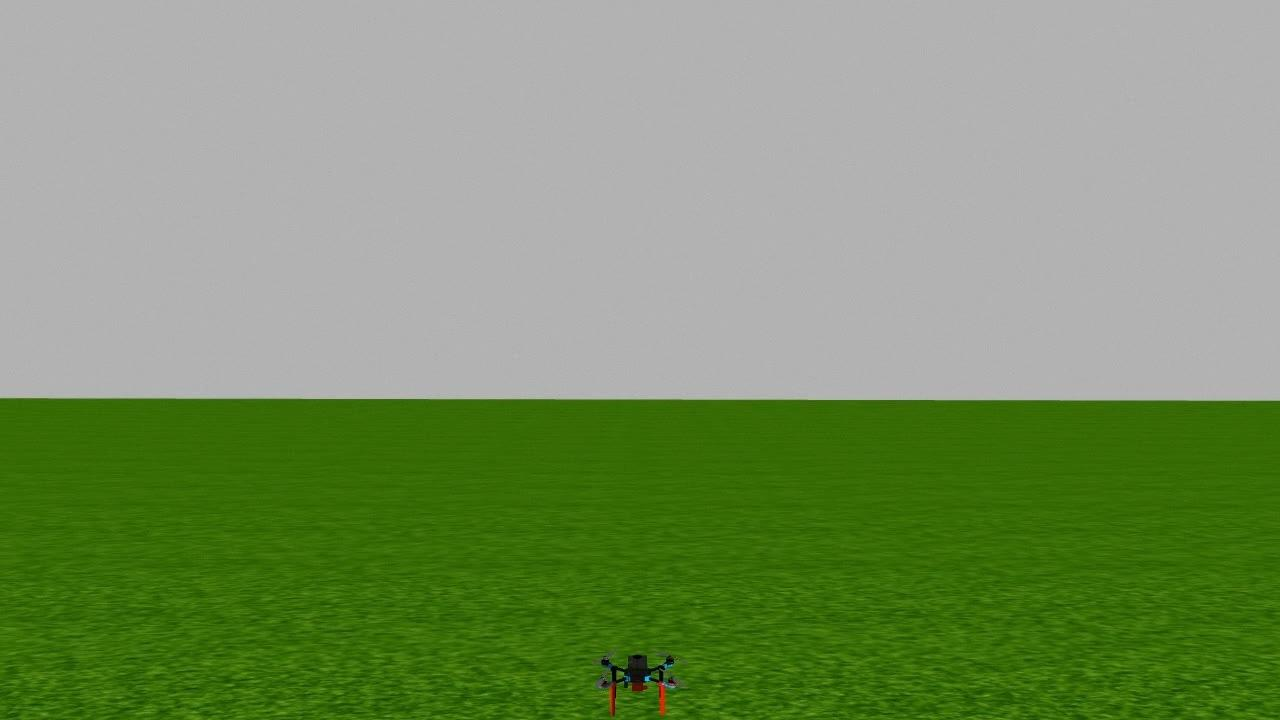UAV: (576, 648, 699, 720)
